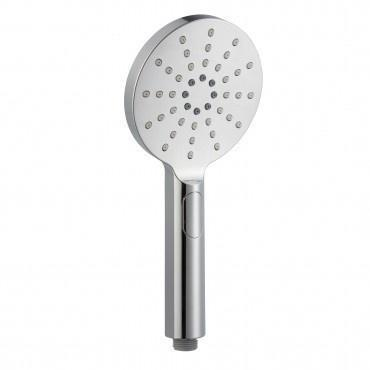Ducha: (129, 7, 274, 358)
